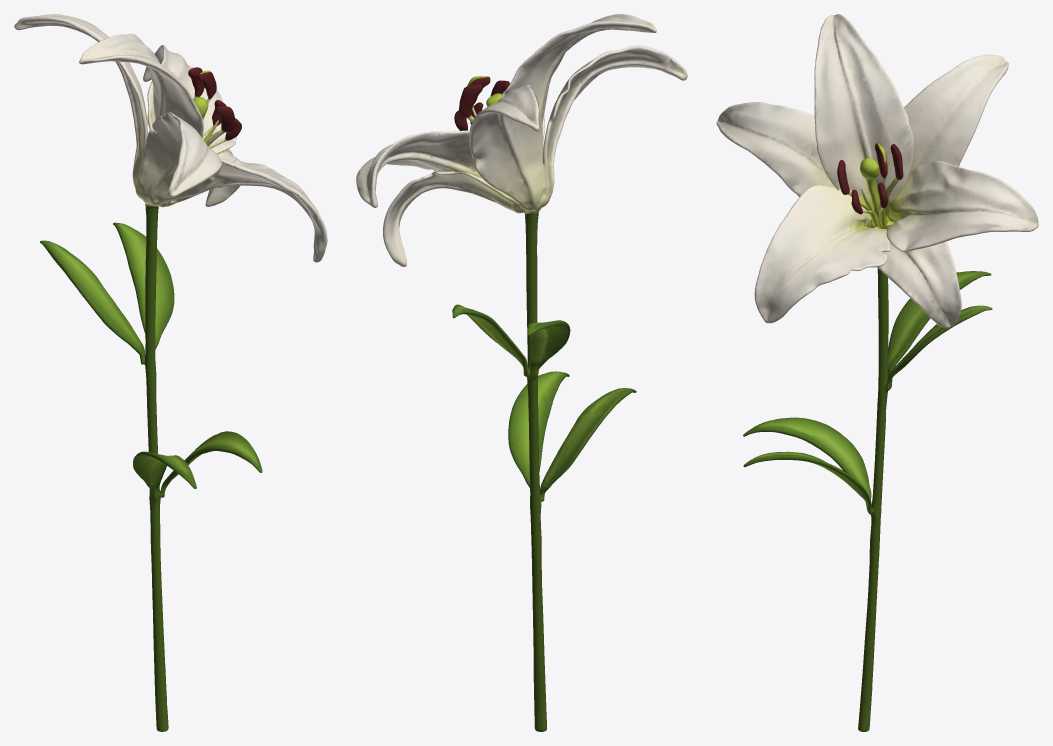
The model's file is white_lily.glb.
3 views of the same model, side by side, from view 1: azimuth 30°, elevation 25°; view 2: azimuth 150°, elevation 25°; view 3: azimuth 270°, elevation 25° (orthographic). The views are drawn at different scales.
Parts seen in each view (by area): view 1: tripo_node_5895e931-c95c-4e2f-a59f-8bfbf14b7bdd; view 2: tripo_node_5895e931-c95c-4e2f-a59f-8bfbf14b7bdd; view 3: tripo_node_5895e931-c95c-4e2f-a59f-8bfbf14b7bdd.
Boxes of the visible parts, x1,y1,x2,y2 form: tripo_node_5895e931-c95c-4e2f-a59f-8bfbf14b7bdd: (14,14,327,731); tripo_node_5895e931-c95c-4e2f-a59f-8bfbf14b7bdd: (356,14,687,731); tripo_node_5895e931-c95c-4e2f-a59f-8bfbf14b7bdd: (716,14,1038,731).
Size of the model in its own units: 0.3248 by 0.9999 by 0.4319.
Materials: 1 (1 with a texture image).
